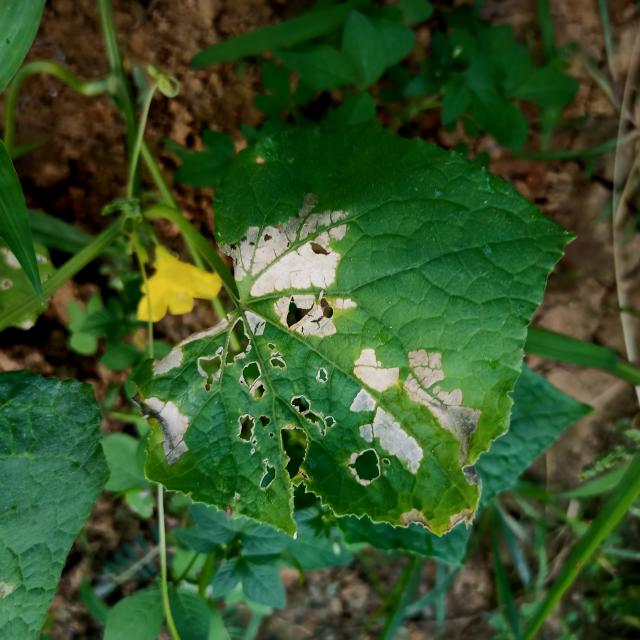disease_cucumber: (146, 288, 488, 522), (224, 196, 357, 300)
